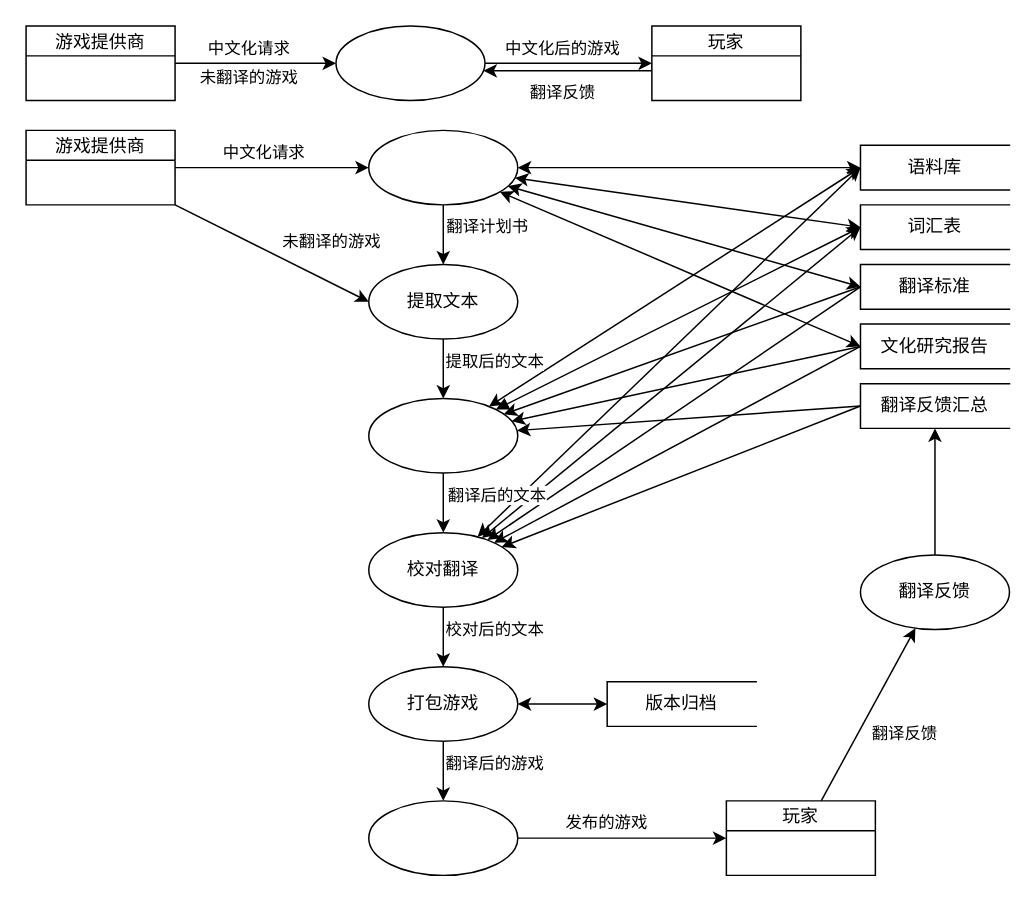
The diagram is 1036 pixels wide and 901 high, and some of its shapes have lost their labels. Here are the shapes that lost their labels. From the top down, the centre of each, then its label:
At (410,63): "中文化".
At (442,167): "准备翻译".
At (442,435): "翻译文本".
At (442,837): "发布游戏".
